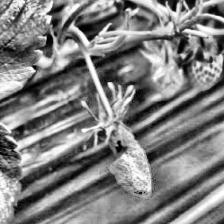Gray Mold: (82, 82, 152, 198)
